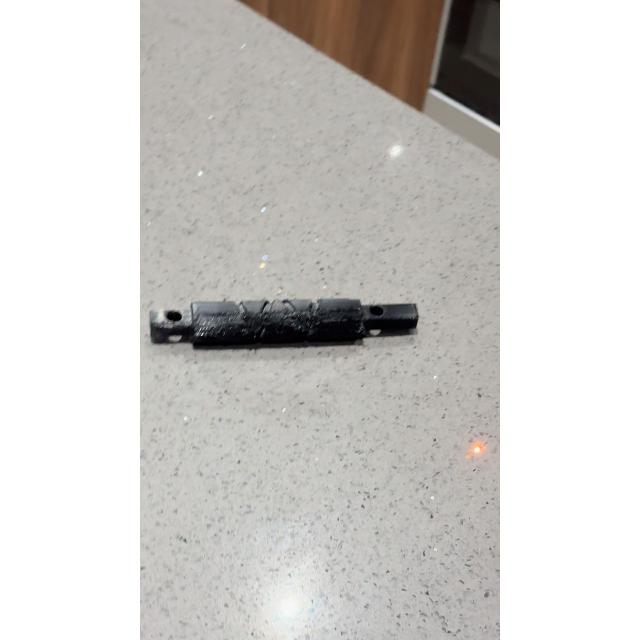Pieza_1: (147, 277, 421, 368)
